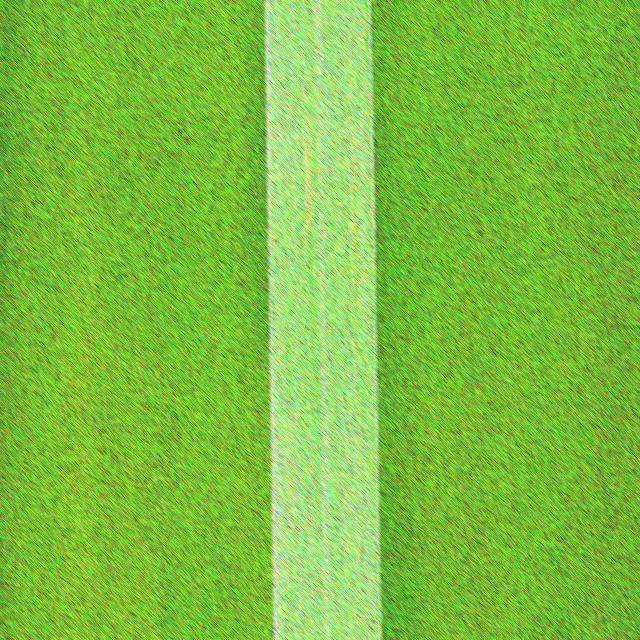BLS: (350, 0, 360, 590), (307, 0, 313, 419)
